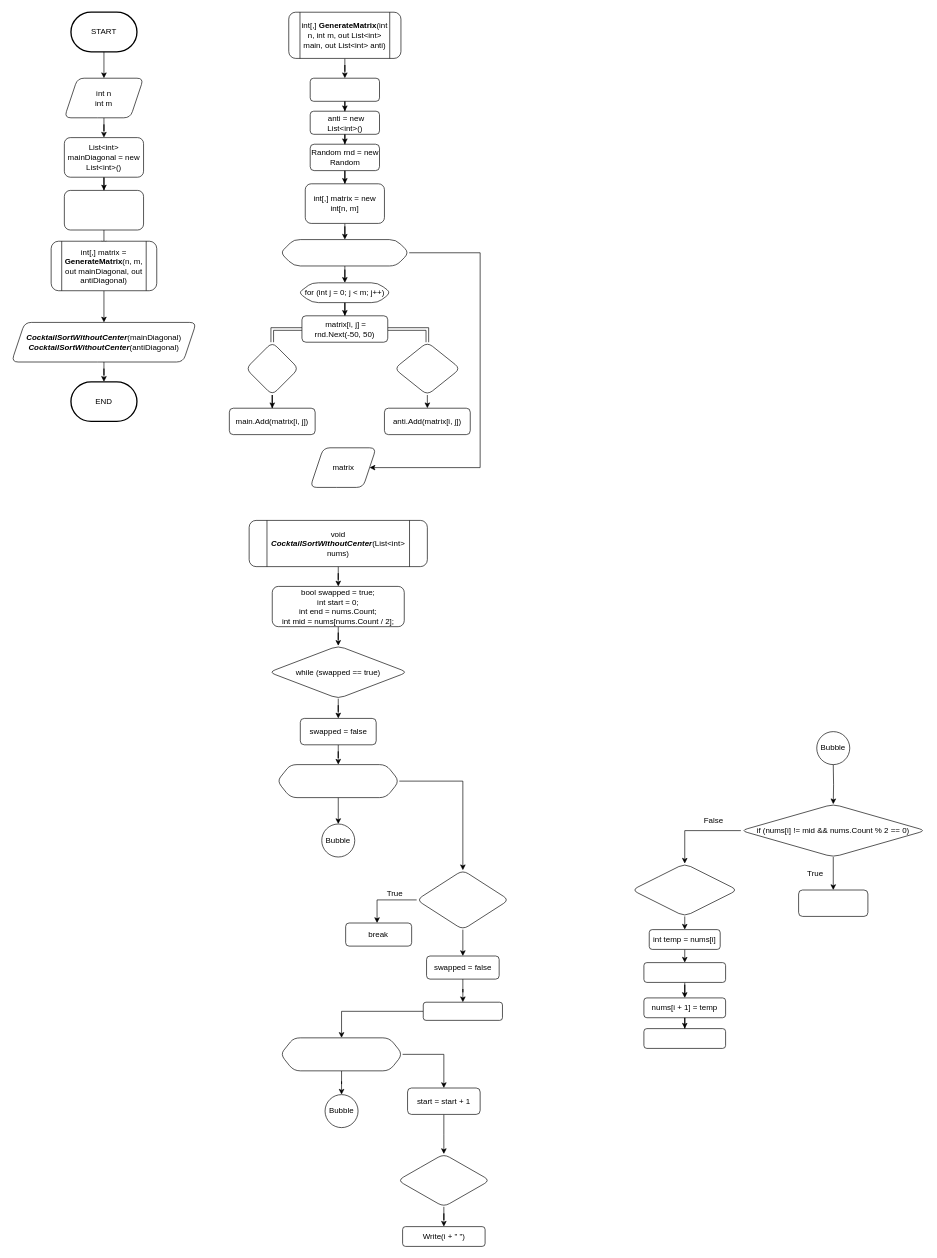
Some shapes in this 937 by 1258 pixel diagram are drawn without their labels. Here are the shapes that lost their labels. From the top down, the centre of each, then its label:
At [345,89]: "main = new List<int>()".
At [104,210]: "List<int> antiDiagonal = new List<int>()".
At [344,252]: "for (int i = 0; i < n; i++)".
At [272,368]: "if (i == j)".
At [427,368]: "if (i + j == n - 1)".
At [338,781]: "for (int i = start; i < end - 1; ++i)".
At [462,900]: "if (swapped == false)".
At [684,889]: "if (nums[i] > nums[i + 1])".
At [833,902]: "Do Nothing".
At [684,972]: "nums[i] = nums[i + 1]".
At [462,1011]: "end = end - 1".
At [341,1054]: "for (int i = end - 1; i >= start; i--)".
At [684,1038]: "swapped = true".
At [443,1180]: "foreach (int i in nums)".
